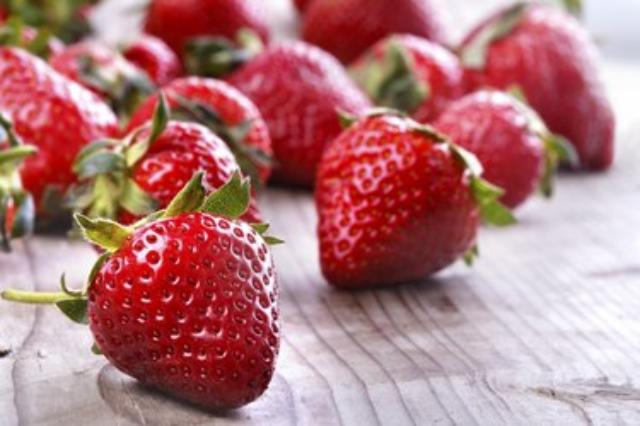Strawberries: (87, 209, 280, 411), (315, 114, 479, 286), (464, 12, 614, 168), (0, 45, 114, 219), (229, 41, 367, 175), (98, 119, 256, 230), (436, 92, 548, 216), (138, 76, 268, 160)
